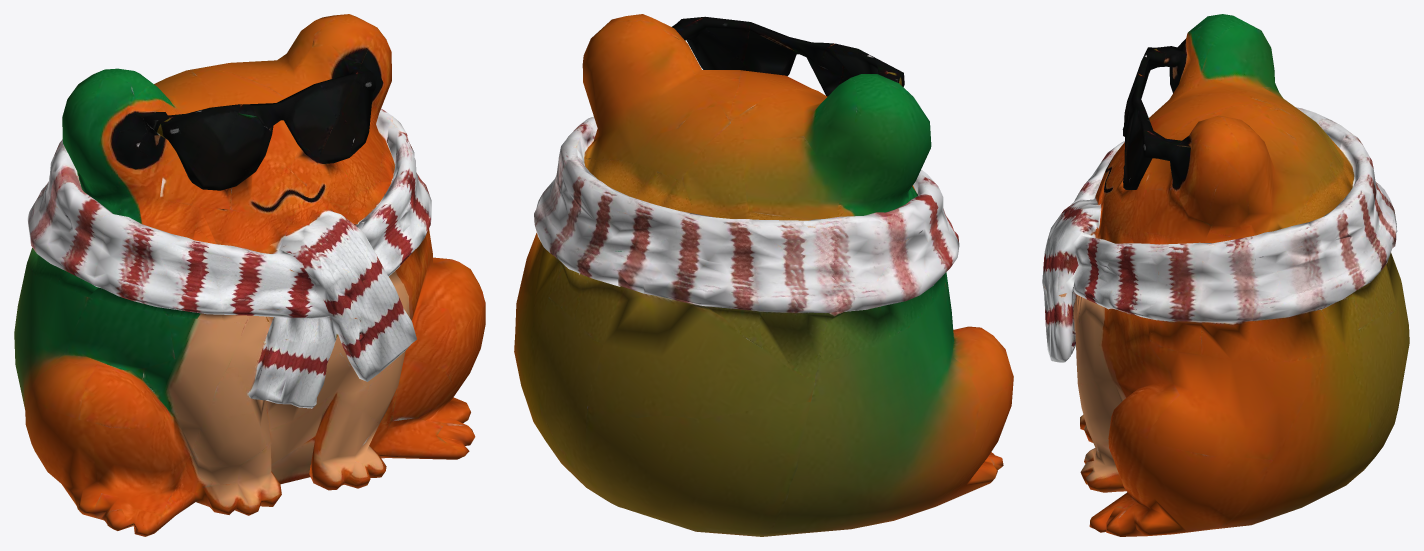
Rendered from saisons.glb.
3 renders of one model, left to right at view 1: azimuth 30°, elevation 25°; view 2: azimuth 150°, elevation 25°; view 3: azimuth 270°, elevation 25°, orthographic. The views are drawn at different scales.
Parts seen in each view (by area): view 1: mesh_node; view 2: mesh_node; view 3: mesh_node.
Part boxes in pixels (left/top/right/bottom): mesh_node: left=14, top=14, right=485, bottom=536; mesh_node: left=514, top=14, right=1013, bottom=536; mesh_node: left=1042, top=14, right=1409, bottom=536.
Size of the model in its own units: 1.9 by 1.66 by 1.44.
Materials: 1 (1 with a texture image).
